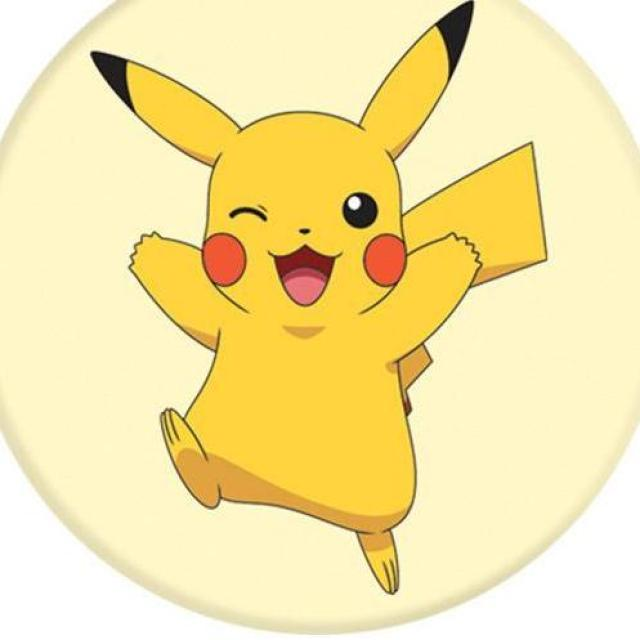Pikachu: (94, 46, 481, 552)
